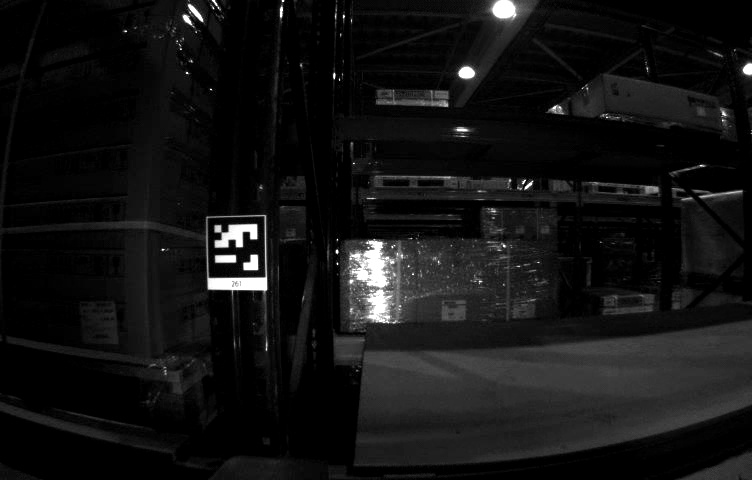True Barcode: (80, 302, 118, 346)
